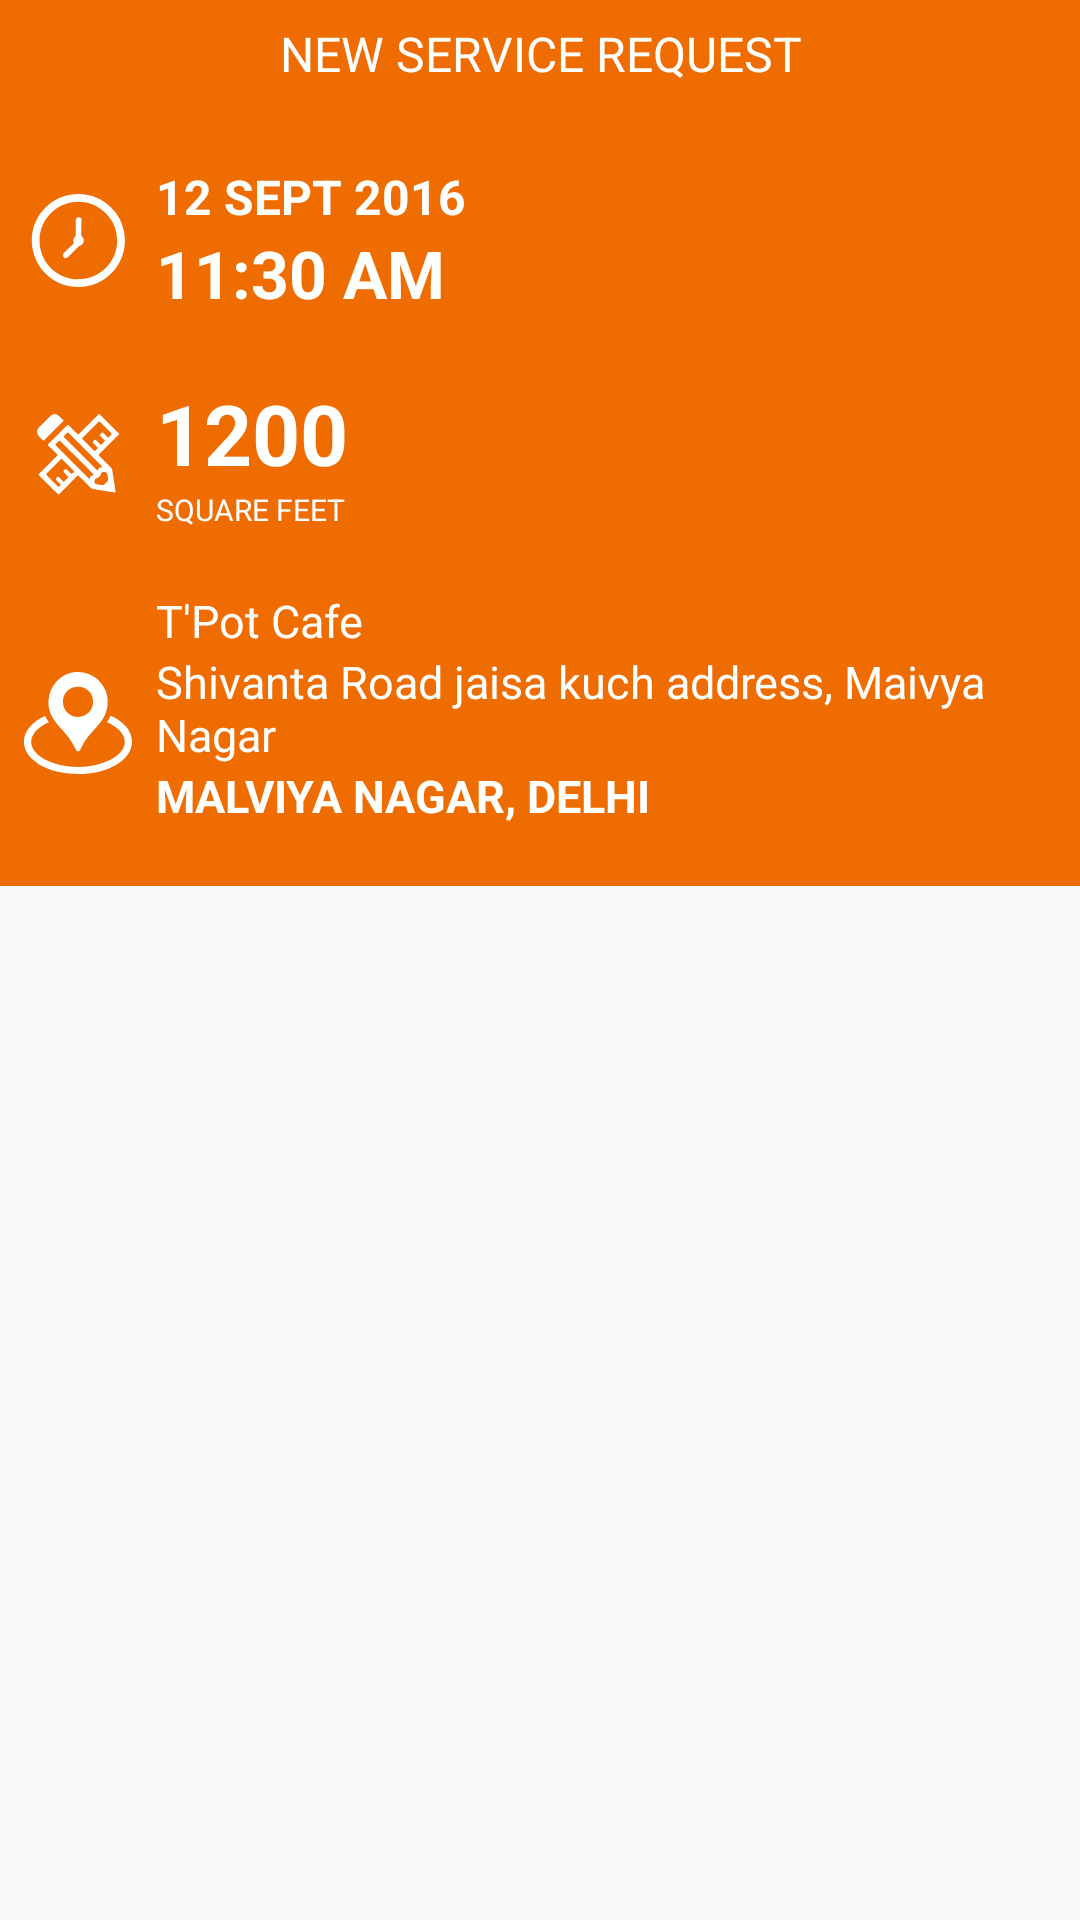

Icon bounding boxes for this 1080 × 1920 phone screenshot, format (x1, y1, x2, y2):
area: (37, 414, 119, 495)
location: (23, 672, 132, 774)
time: (31, 194, 125, 287)
